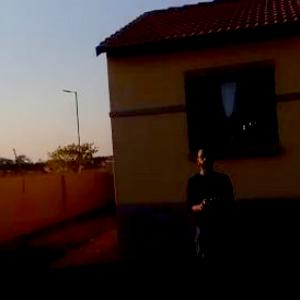follow: (171, 133, 248, 299)
